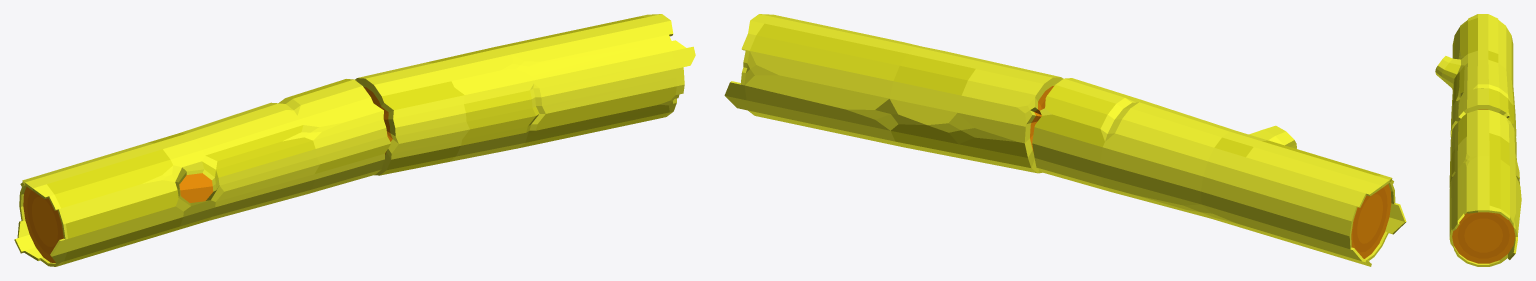
The model's file is Broken log_22.fbx.
The picture shows the model from 3 angles, left to right: view 1: azimuth 30°, elevation 25°; view 2: azimuth 150°, elevation 25°; view 3: azimuth 270°, elevation 25°; orthographic projection. The views are drawn at different scales.
Parts seen in each view (by area): view 1: Circle.304, Circle.301; view 2: Circle.304, Circle.301; view 3: Circle.301, Circle.304.
Part boxes in pixels (x1,y1,x2,y2): Circle.304: (14,79,391,266); Circle.301: (354,14,695,175); Circle.304: (1032,78,1406,266); Circle.301: (724,14,1063,173); Circle.301: (1449,110,1521,266); Circle.304: (1435,14,1516,136).
Bounding box in the file's own units: 221 × 33.99 × 38.98.
